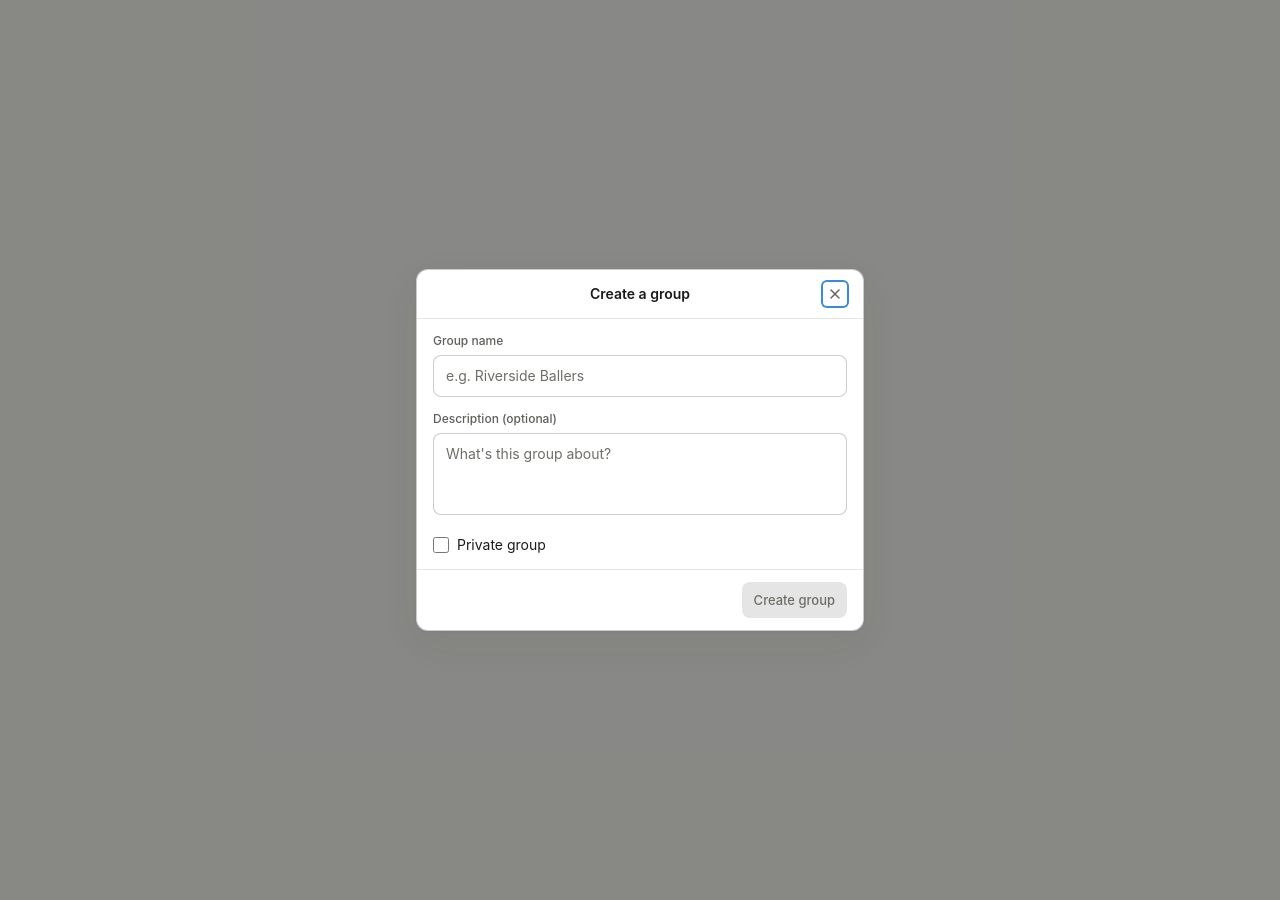
Test: CreateGroupModal › disables submit until the name is long enough and a sport is chosen
Expected: the button "Create group" is disabled, left=742, top=582, right=847, bottom=618
Type "Ri" into the field labelled "Group name". click: (640, 376)
box: left=433, top=355, right=847, bottom=397
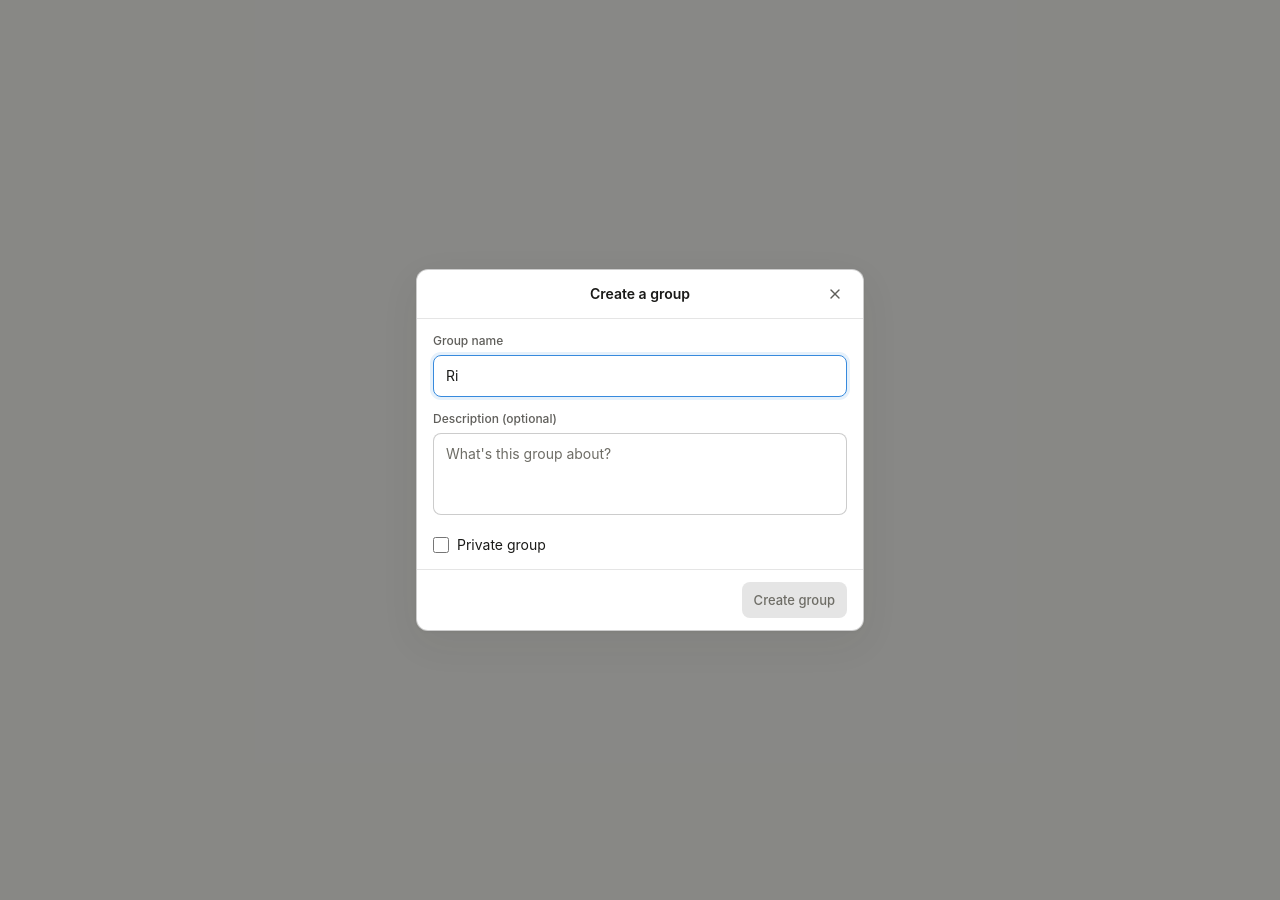
Expected: the button "Create group" is disabled, left=742, top=582, right=847, bottom=618
Type "verside" into the field labelled "Group name". click: (640, 376)
box: left=433, top=355, right=847, bottom=397
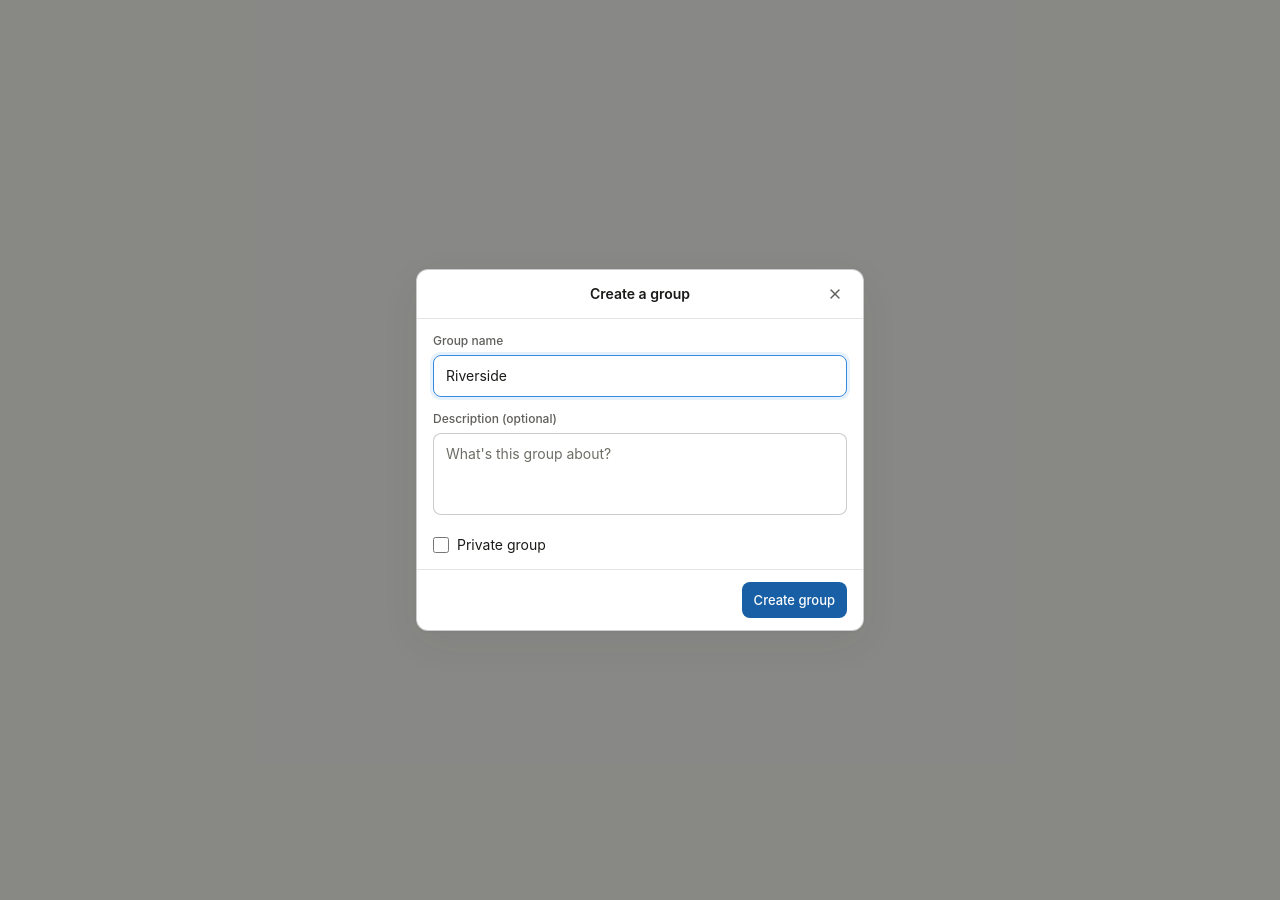
Result: the button "Create group" is enabled at left=742, top=582, right=847, bottom=618
